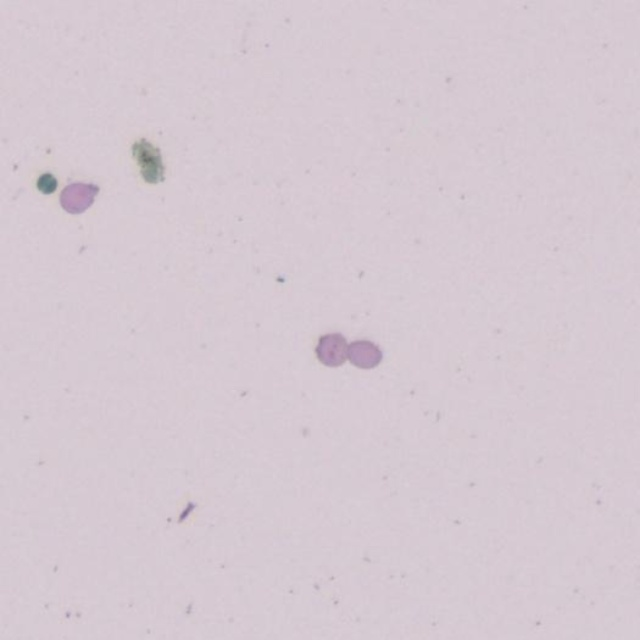intermediate: (60, 182, 99, 215), (316, 333, 346, 366), (347, 340, 382, 368)
non_viable: (37, 173, 56, 194)
